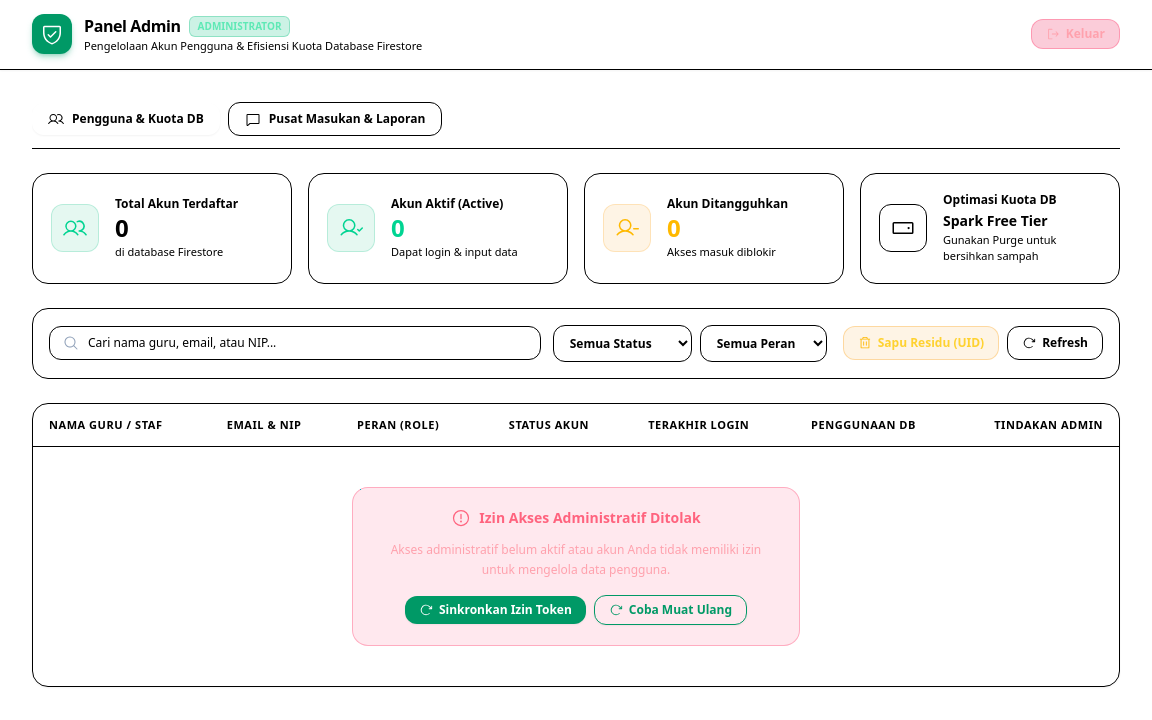
Test: AdminUserManagementPage UX & Error Handling › allows syncing token claim on permission-denied and reloads user data on success
Expected: the text "Izin Akses Administratif Ditolak" is shown, [479,508,701,528]
Click the button "Sinkronkan Izin Token": (495, 610) [405,596,586,624]
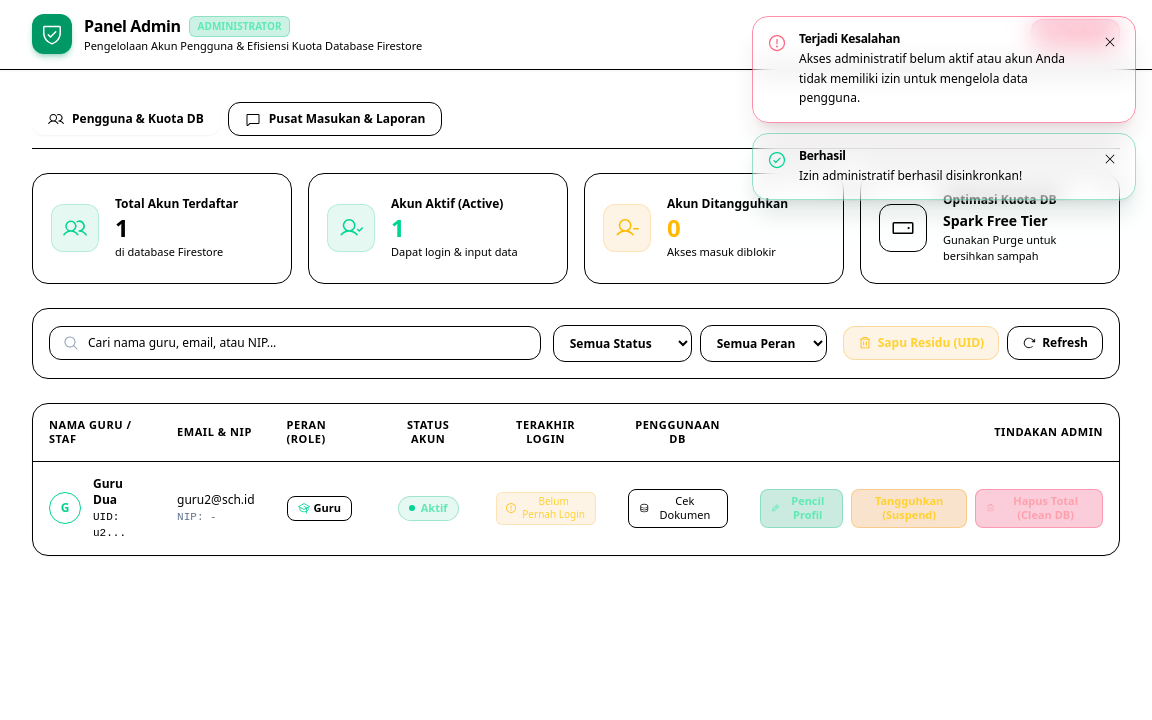
Now the text "Guru Dua" is shown, box [93,475,123,508]
